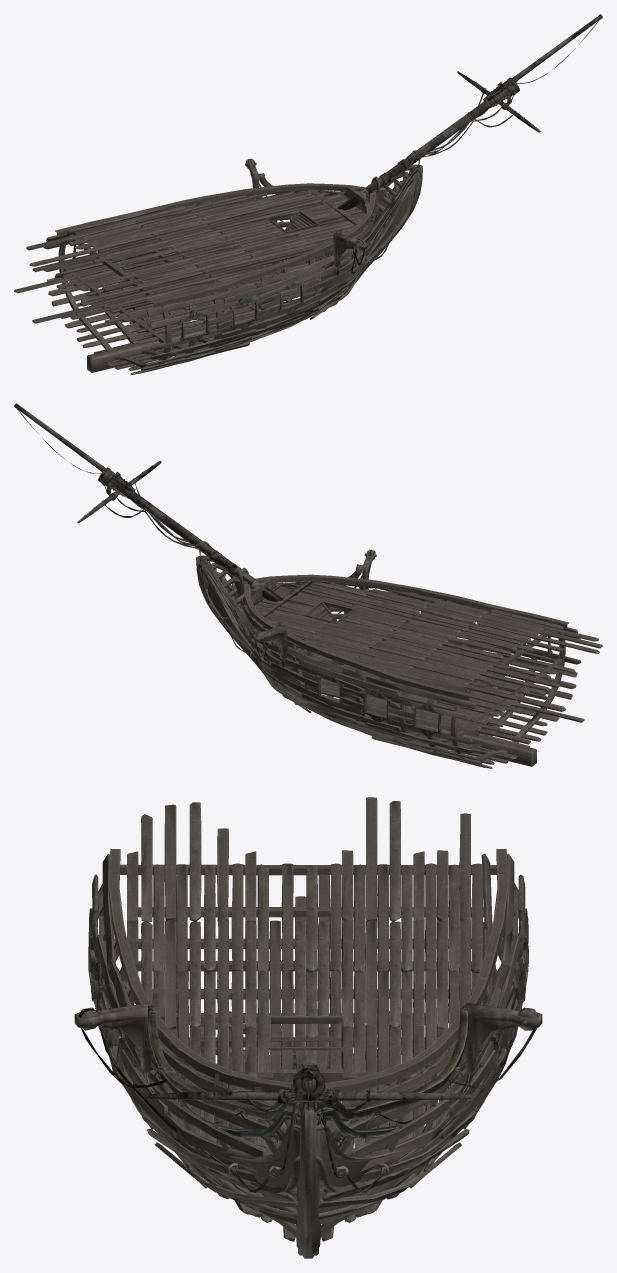
Rendered from ShipWreck_Bow-transformed.glb.
3 renders of one model, top to bottom at view 1: azimuth 30°, elevation 25°; view 2: azimuth 150°, elevation 25°; view 3: azimuth 270°, elevation 25°, orthographic. The views are drawn at different scales.
Parts seen in each view (by area): view 1: ShipWreck_Bow; view 2: ShipWreck_Bow; view 3: ShipWreck_Bow.
Part boxes in pixels (left/top/right/bottom): ShipWreck_Bow: left=14, top=14, right=602, bottom=374; ShipWreck_Bow: left=14, top=403, right=602, bottom=768; ShipWreck_Bow: left=74, top=797, right=542, bottom=1258.
Bounding box in the file's own units: 43.66 × 17.17 × 15.64.
Materials: 4 (4 with a texture image).
